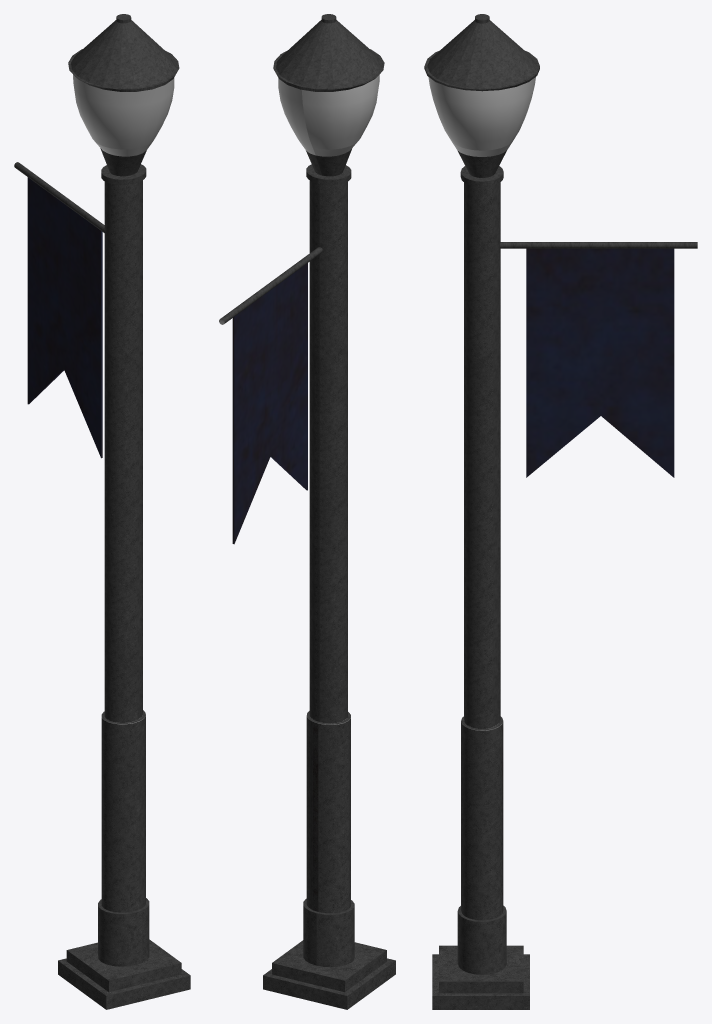
File: LightPost.obj
3 views of the same model, side by side, from view 1: azimuth 30°, elevation 25°; view 2: azimuth 150°, elevation 25°; view 3: azimuth 270°, elevation 25° (orthographic).
Parts seen in each view (by area): view 1: pPipe1_meshId0_name, pCube2_meshId3_name, pCube1_meshId1_name, pCylinder1_meshId2_name; view 2: pPipe1_meshId0_name, pCube2_meshId3_name, pCube1_meshId1_name, pCylinder1_meshId2_name; view 3: pPipe1_meshId0_name, pCube2_meshId3_name, pCube1_meshId1_name, pCylinder1_meshId2_name.
Boxes of the visible parts, left/top/right/bottom form: pPipe1_meshId0_name: left=68, top=14, right=179, bottom=966; pCube2_meshId3_name: left=27, top=177, right=102, bottom=458; pCube1_meshId1_name: left=58, top=939, right=190, bottom=1009; pCylinder1_meshId2_name: left=14, top=162, right=104, bottom=232; pPipe1_meshId0_name: left=273, top=14, right=384, bottom=967; pCube2_meshId3_name: left=232, top=263, right=307, bottom=544; pCube1_meshId1_name: left=263, top=940, right=395, bottom=1009; pCylinder1_meshId2_name: left=219, top=247, right=322, bottom=324; pPipe1_meshId0_name: left=424, top=14, right=539, bottom=974; pCube2_meshId3_name: left=526, top=248, right=674, bottom=477; pCube1_meshId1_name: left=432, top=945, right=529, bottom=1009; pCylinder1_meshId2_name: left=500, top=242, right=697, bottom=248.
Size of the model in its own units: 5.4 by 51.88 by 13.21.
Materials: 1 (1 with a texture image).
